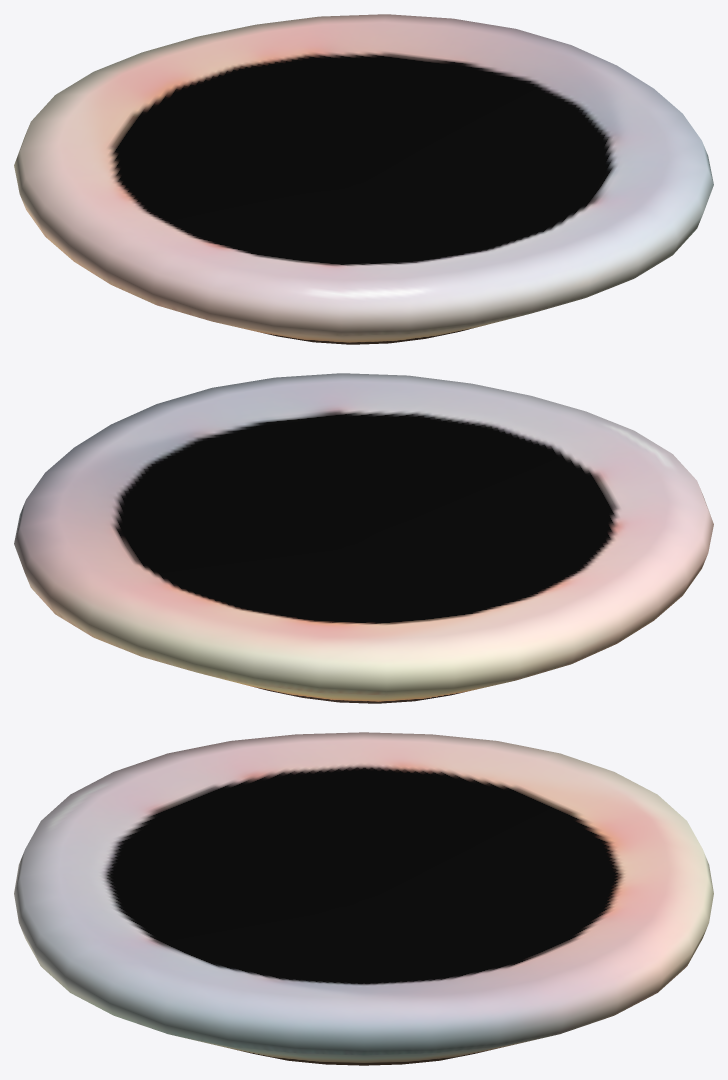
File: panzi.FBX
3 views of the same model, one above another, from view 1: azimuth 30°, elevation 25°; view 2: azimuth 150°, elevation 25°; view 3: azimuth 270°, elevation 25° (orthographic). The views are drawn at different scales.
Visible parts, largest first — view 1: panzi 01; view 2: panzi 01; view 3: panzi 01.
Part boxes in pixels (bbox=[...]): panzi 01: bbox=[14, 14, 713, 344]; panzi 01: bbox=[14, 373, 713, 703]; panzi 01: bbox=[14, 732, 713, 1065].
Bounding box in the file's own units: 63.54 × 11.36 × 63.54.
